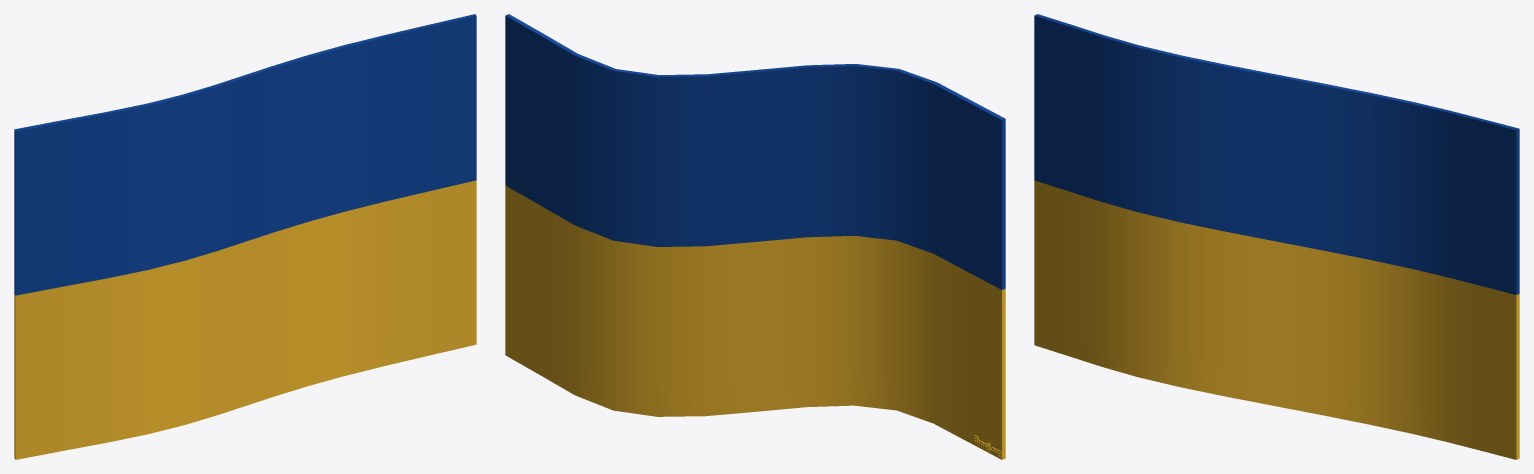
The model's file is flag_ukraine.fbx.
The picture shows the model from 3 angles, left to right: view 1: azimuth 30°, elevation 25°; view 2: azimuth 150°, elevation 25°; view 3: azimuth 330°, elevation 25°; orthographic projection. The views are drawn at different scales.
Parts seen in each view (by area): view 1: flag_ukraine; view 2: flag_ukraine; view 3: flag_ukraine.
Part boxes in pixels (x1,y1,x2,y2): flag_ukraine: (14, 14, 476, 459); flag_ukraine: (505, 14, 1005, 459); flag_ukraine: (1034, 14, 1519, 459).
Size of the model in its own units: 218 by 158 by 33.73.
Materials: 2 (2 with a texture image).
